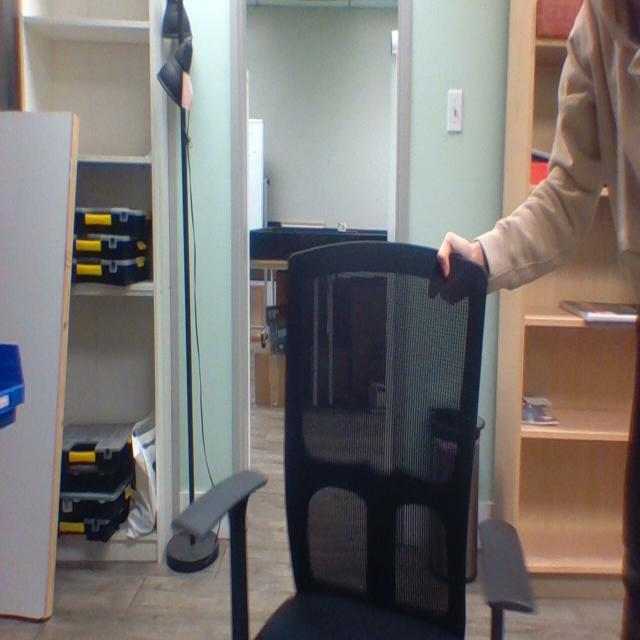black-chair: (168, 237, 540, 636)
